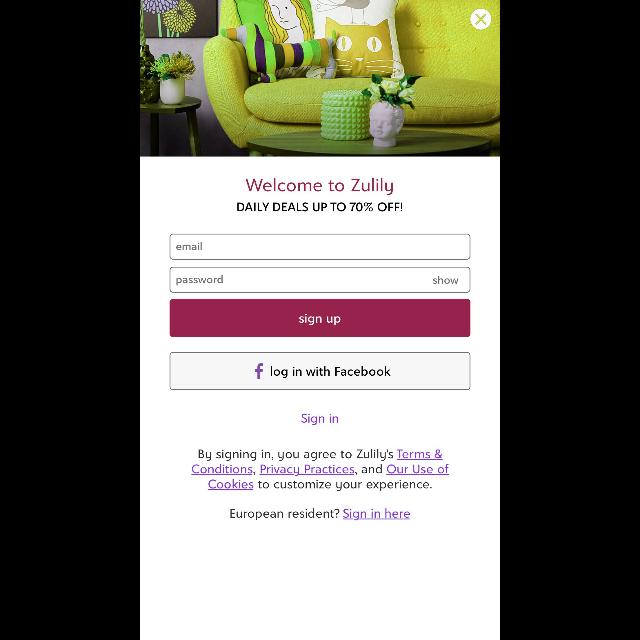icon: (471, 10, 492, 30)
image: (140, 1, 500, 157)
input: (170, 234, 470, 260), (170, 267, 470, 293)
text: (192, 448, 448, 492), (245, 178, 392, 196), (230, 508, 410, 520), (238, 202, 402, 212), (177, 274, 223, 286), (302, 414, 338, 426), (176, 242, 202, 250), (433, 276, 459, 284)
textbutton: (170, 352, 470, 390), (170, 299, 470, 337)
